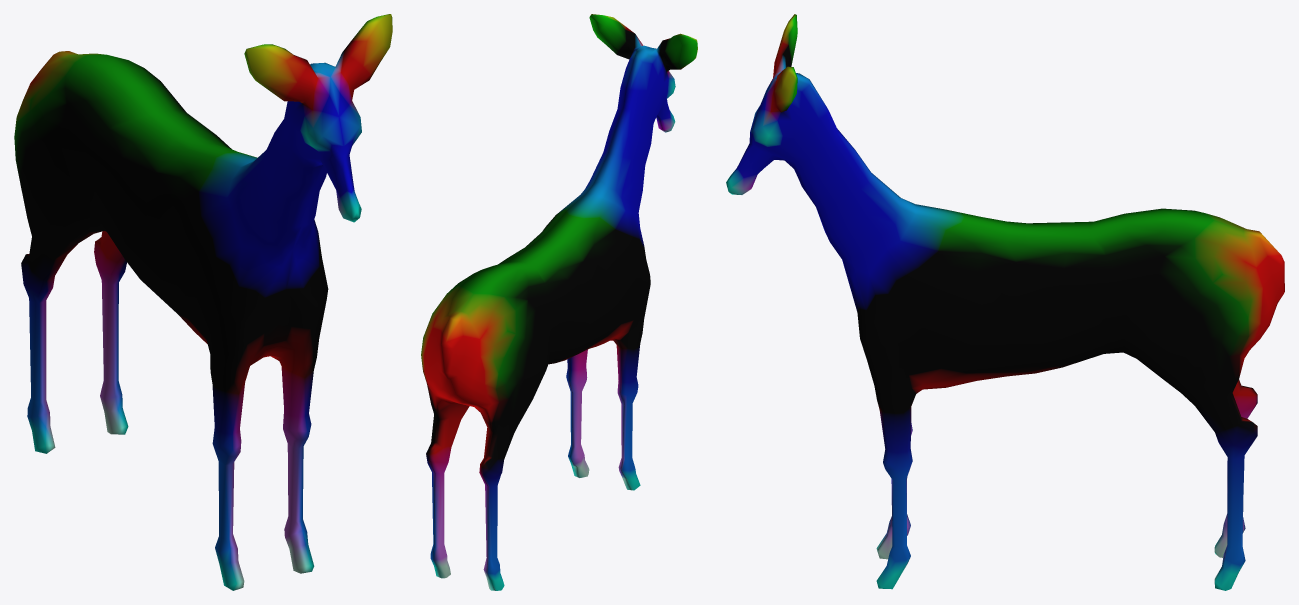
Rendered from red-deer.glb.
3 renders of one model, left to right at view 1: azimuth 30°, elevation 25°; view 2: azimuth 150°, elevation 25°; view 3: azimuth 270°, elevation 25°, orthographic. The views are drawn at different scales.
Parts seen in each view (by area): view 1: deer; view 2: deer; view 3: deer.
Boxes of the visible parts, x1,y1,x2,y2 form: deer: [14, 14, 392, 590]; deer: [421, 14, 697, 590]; deer: [726, 14, 1284, 590].
Size of the model in its own units: 0.4478 by 1.69 by 1.63.
